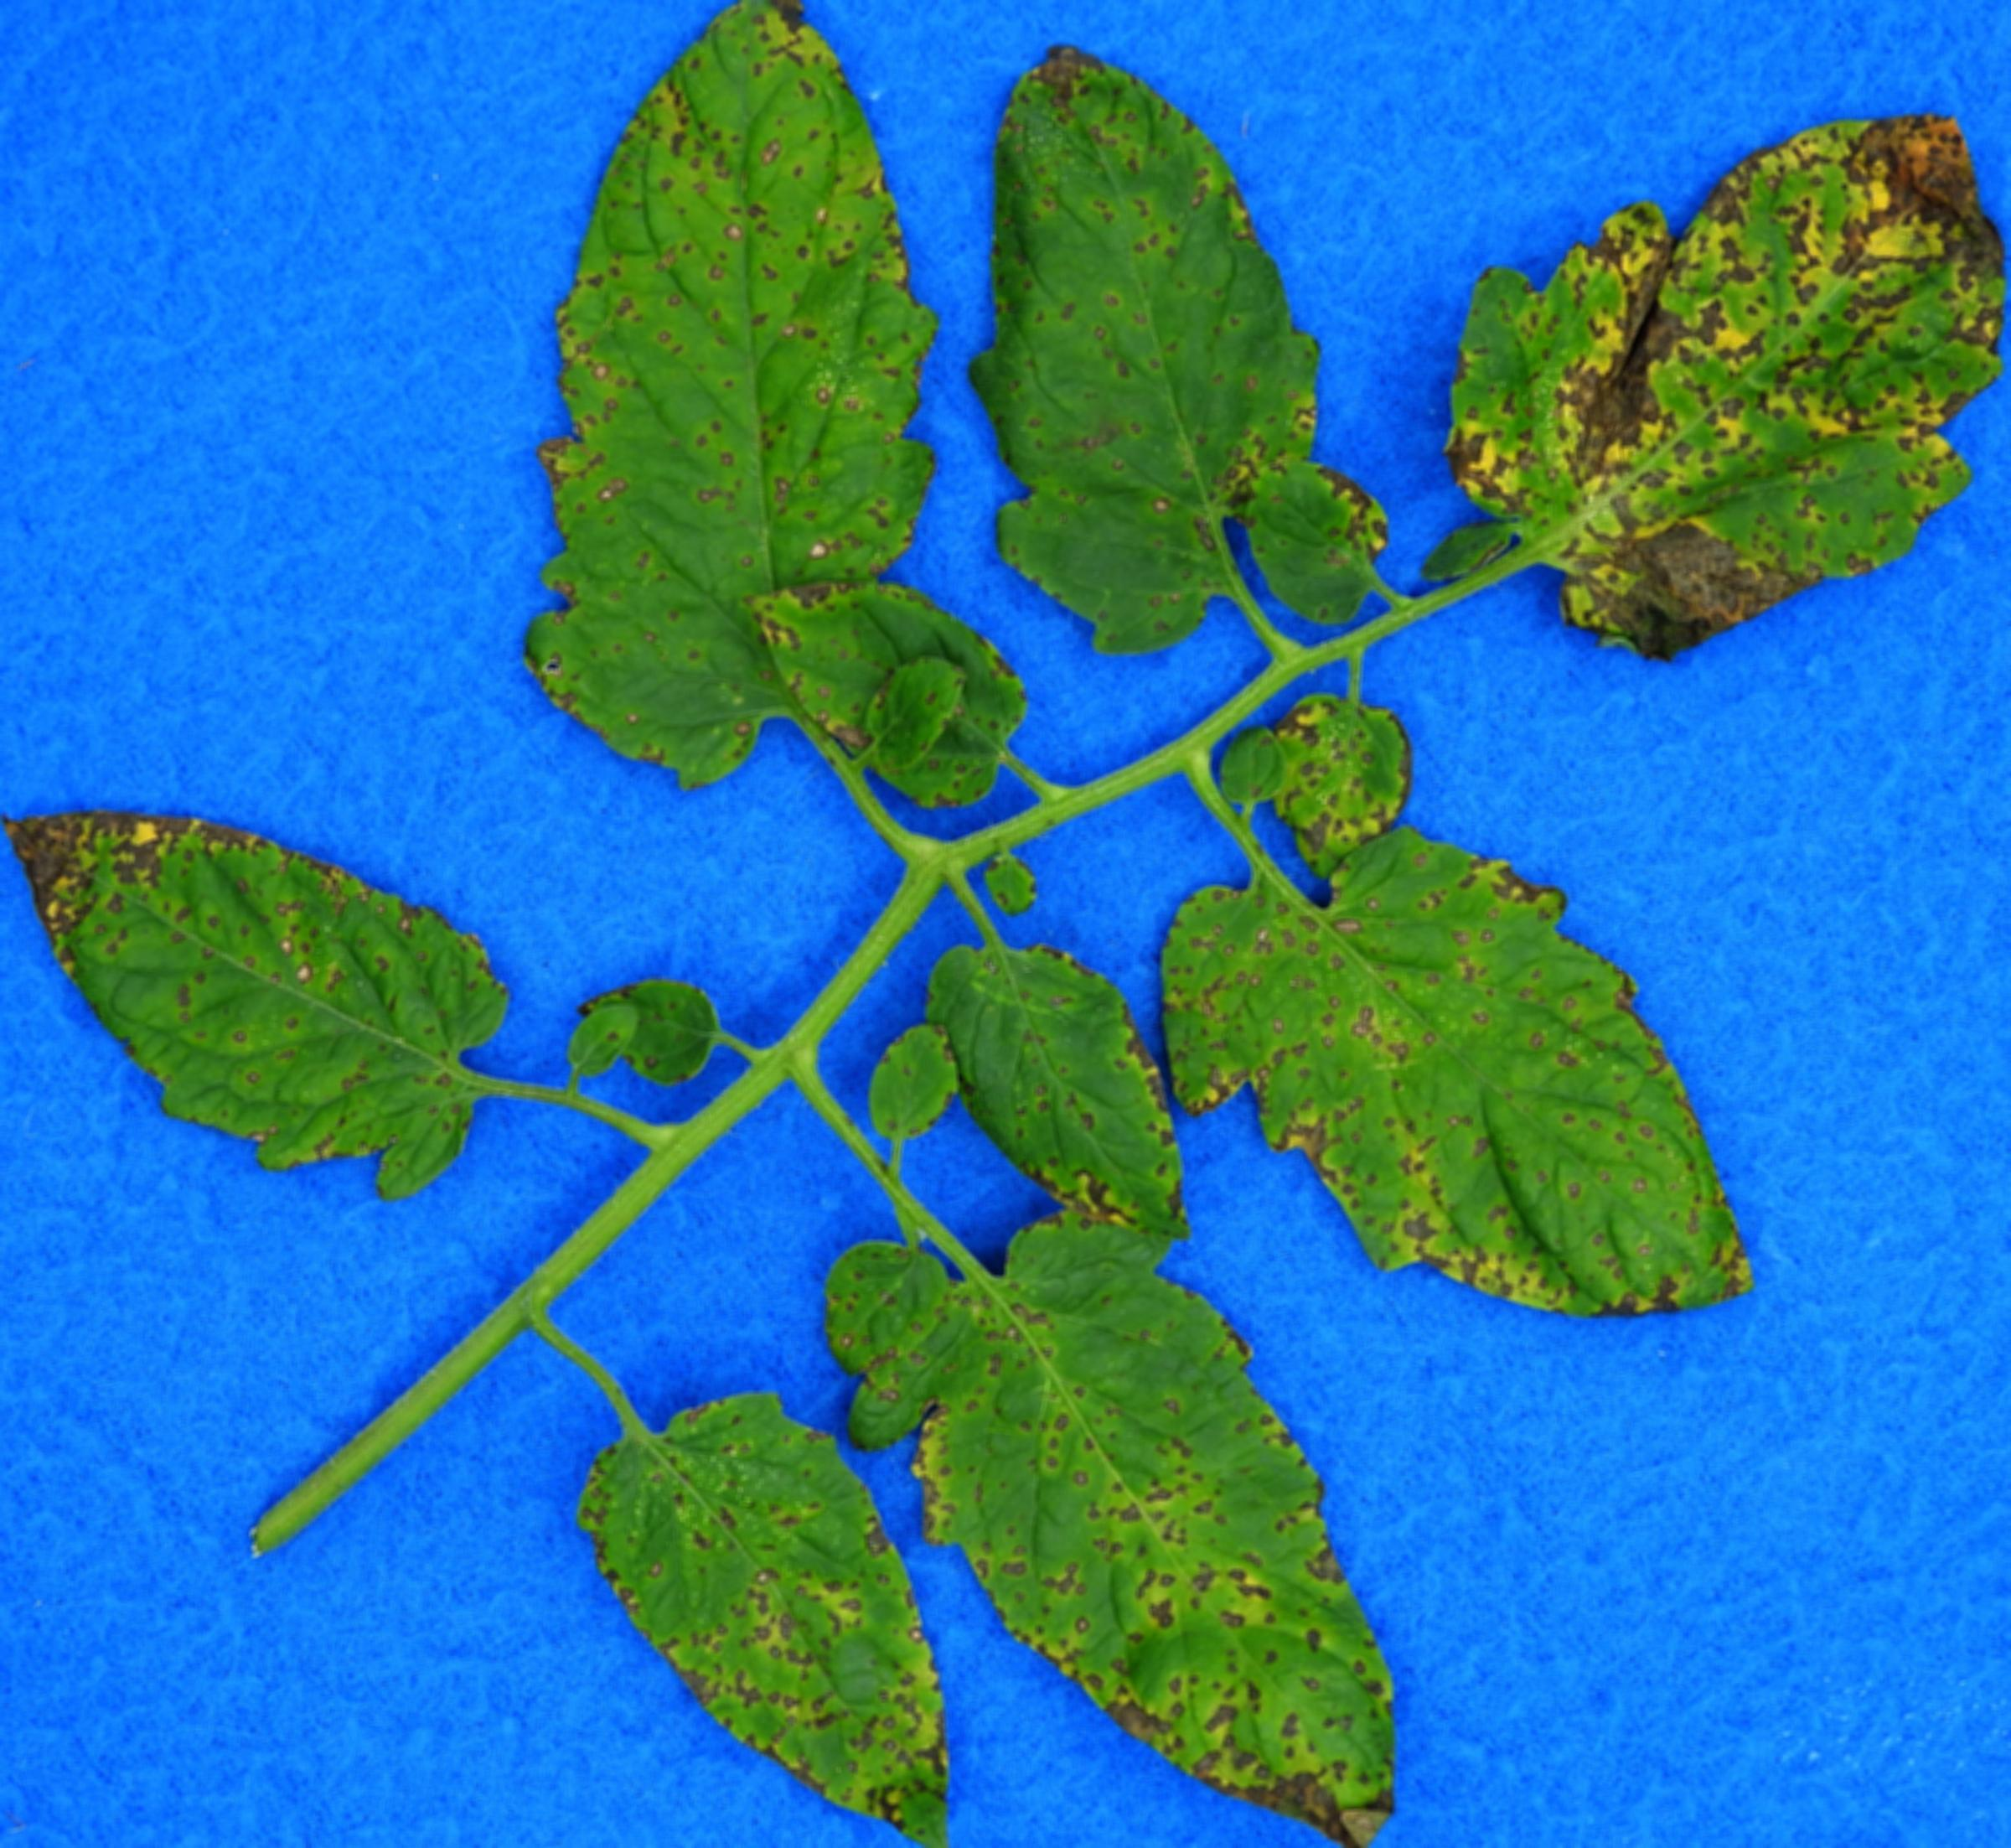Tomato Septoria leaf spot: (519, 0, 965, 900), (1424, 68, 2010, 700), (858, 1173, 1402, 1845), (937, 10, 1448, 662), (1155, 820, 1751, 1338), (24, 754, 520, 1232), (563, 1358, 972, 1843), (929, 925, 1202, 1241), (742, 567, 1073, 816)
